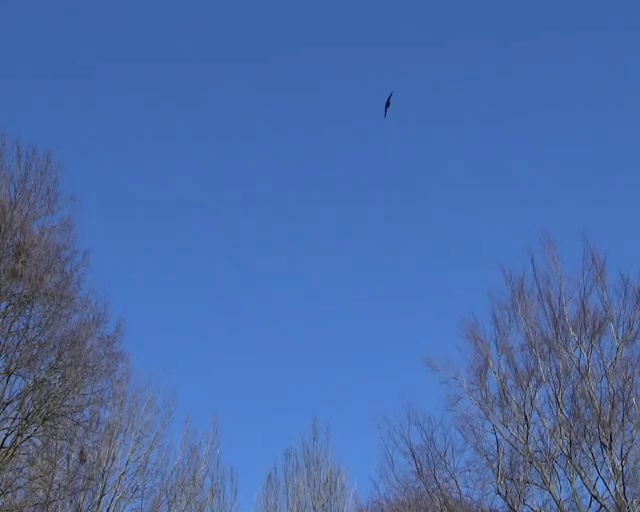BIRD: (384, 91, 394, 117)
